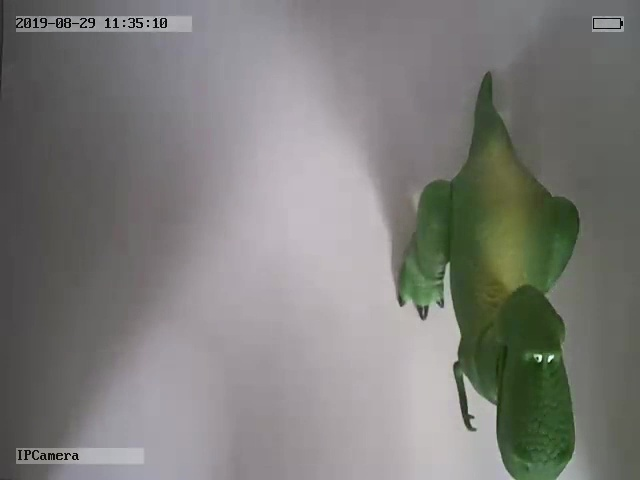rex: (396, 69, 582, 480)
